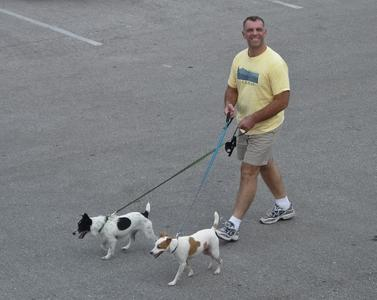person: (214, 18, 297, 243)
